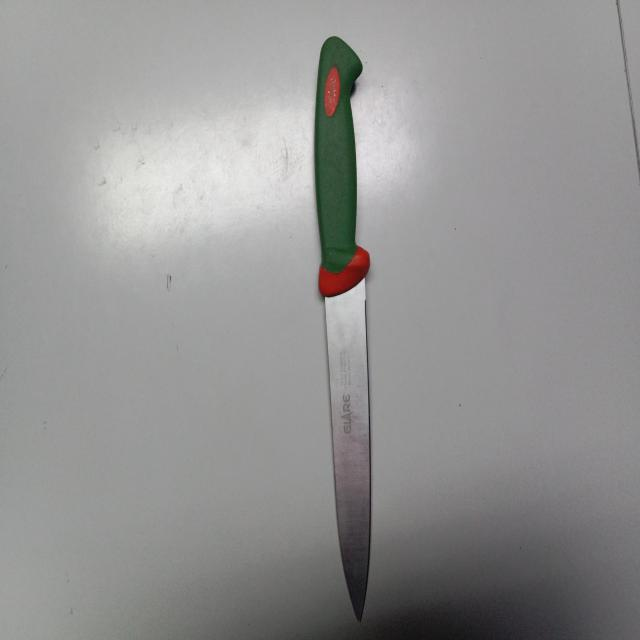Knife: (315, 35, 371, 621)
